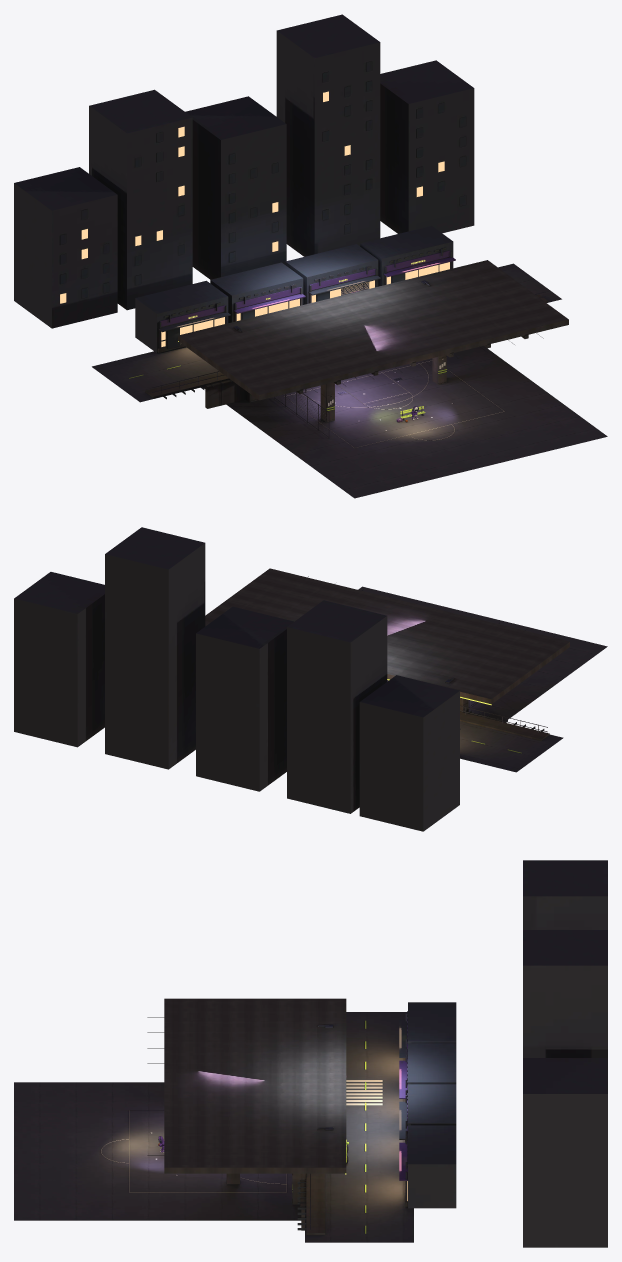
File: dirto-continuous.glb
The picture shows the model from 3 angles, top to bottom: view 1: azimuth 30°, elevation 25°; view 2: azimuth 150°, elevation 25°; view 3: azimuth 270°, elevation 25°; orthographic projection. The views are drawn at different scales.
Visible parts, largest first — view 1: P2_Structure, P2_Ground, P2_Street, P2_Emissive, P2_Props; view 2: P2_Structure, P2_Ground; view 3: P2_Structure, P2_Ground, P2_Street.
Part boxes in pixels (x1,y1,x2,y2): P2_Structure: [14, 14, 568, 422]; P2_Ground: [92, 263, 607, 498]; P2_Street: [129, 247, 545, 392]; P2_Emissive: [60, 91, 449, 346]; P2_Props: [274, 360, 504, 447]; P2_Structure: [14, 527, 569, 831]; P2_Ground: [358, 586, 607, 772]; P2_Structure: [147, 860, 607, 1247]; P2_Ground: [14, 1012, 413, 1242]; P2_Street: [310, 1011, 407, 1233].
Size of the model in its own units: 46 by 23.21 by 49.
Materials: 10 (6 with a texture image).
